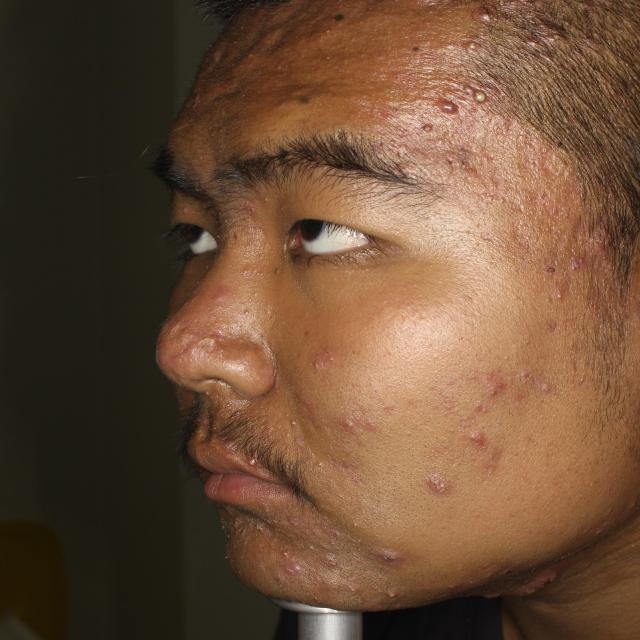acne: (425, 465, 480, 505), (464, 149, 502, 193), (528, 179, 566, 220), (527, 377, 571, 410), (454, 20, 489, 61), (478, 369, 516, 406), (434, 137, 469, 176), (458, 386, 491, 427), (540, 279, 576, 306), (388, 574, 413, 611), (502, 383, 532, 413), (469, 427, 502, 452), (339, 575, 365, 602), (472, 459, 502, 482), (475, 82, 497, 112), (437, 93, 460, 116), (371, 542, 399, 559), (207, 319, 226, 344), (533, 312, 558, 330), (171, 322, 190, 345), (475, 3, 494, 26), (333, 414, 357, 432), (308, 350, 327, 364), (289, 554, 301, 573)
